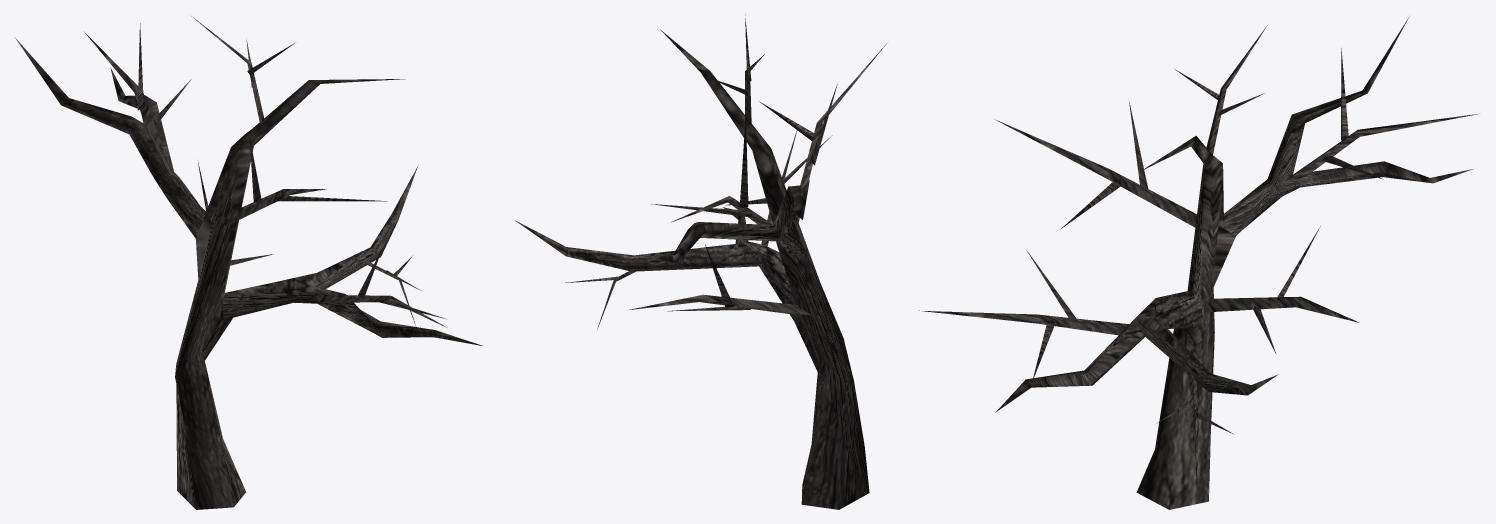
The model's file is Tree04.obj.
3 renders of one model, left to right at view 1: azimuth 30°, elevation 25°; view 2: azimuth 150°, elevation 25°; view 3: azimuth 270°, elevation 25°, orthographic. The views are drawn at different scales.
Parts seen in each view (by area): view 1: Mesh_0; view 2: Mesh_0; view 3: Mesh_0.
Part boxes in pixels (x1,y1,x2,y2): Mesh_0: (15,16,483,509); Mesh_0: (515,14,886,509); Mesh_0: (919,16,1478,509).
Bounding box in the file's own units: 4.01 × 5 × 5.3.
Materials: 1 (1 with a texture image).
